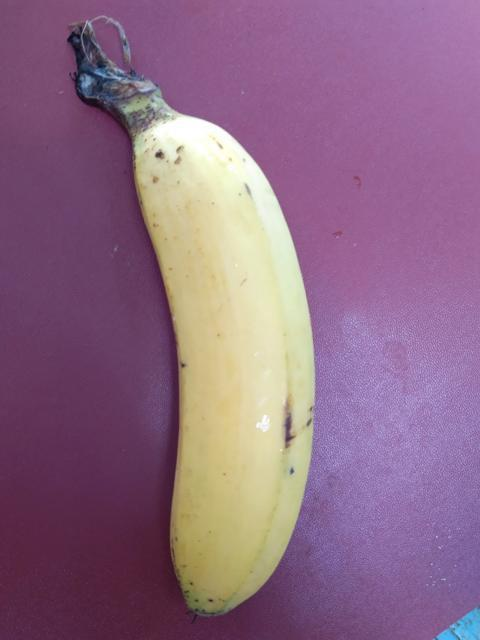freshripe: (103, 108, 362, 639)
